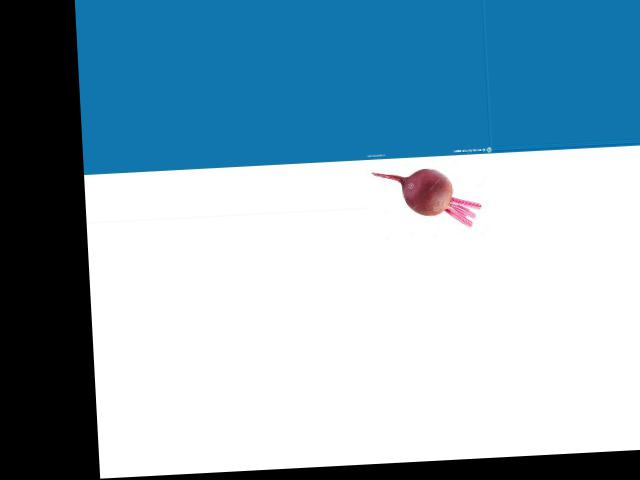beet: (372, 166, 481, 231)
